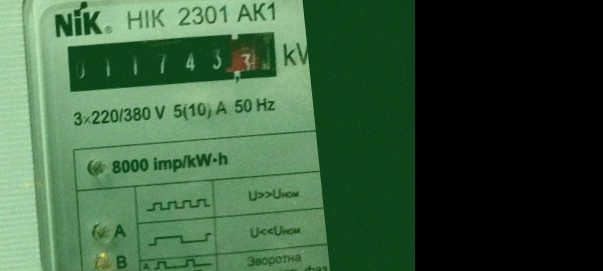0: (71, 53, 88, 81)
1: (98, 50, 114, 79), (126, 48, 141, 77)
3: (207, 44, 223, 72), (237, 51, 254, 73)
4: (181, 47, 197, 74)
7: (153, 48, 169, 75)
screen: (57, 18, 288, 105)
